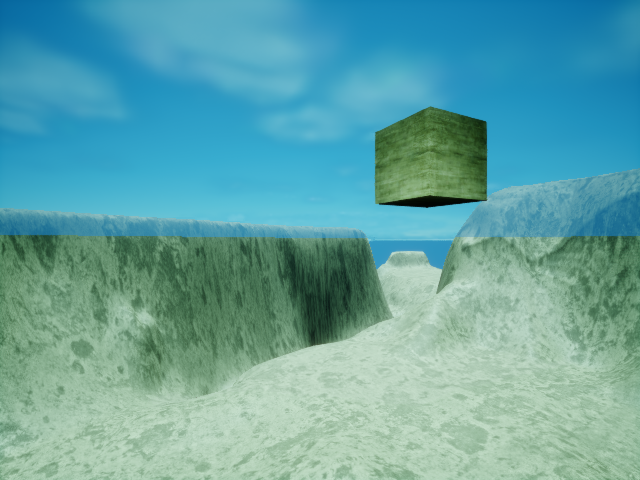Cube: (362, 88, 493, 220)
